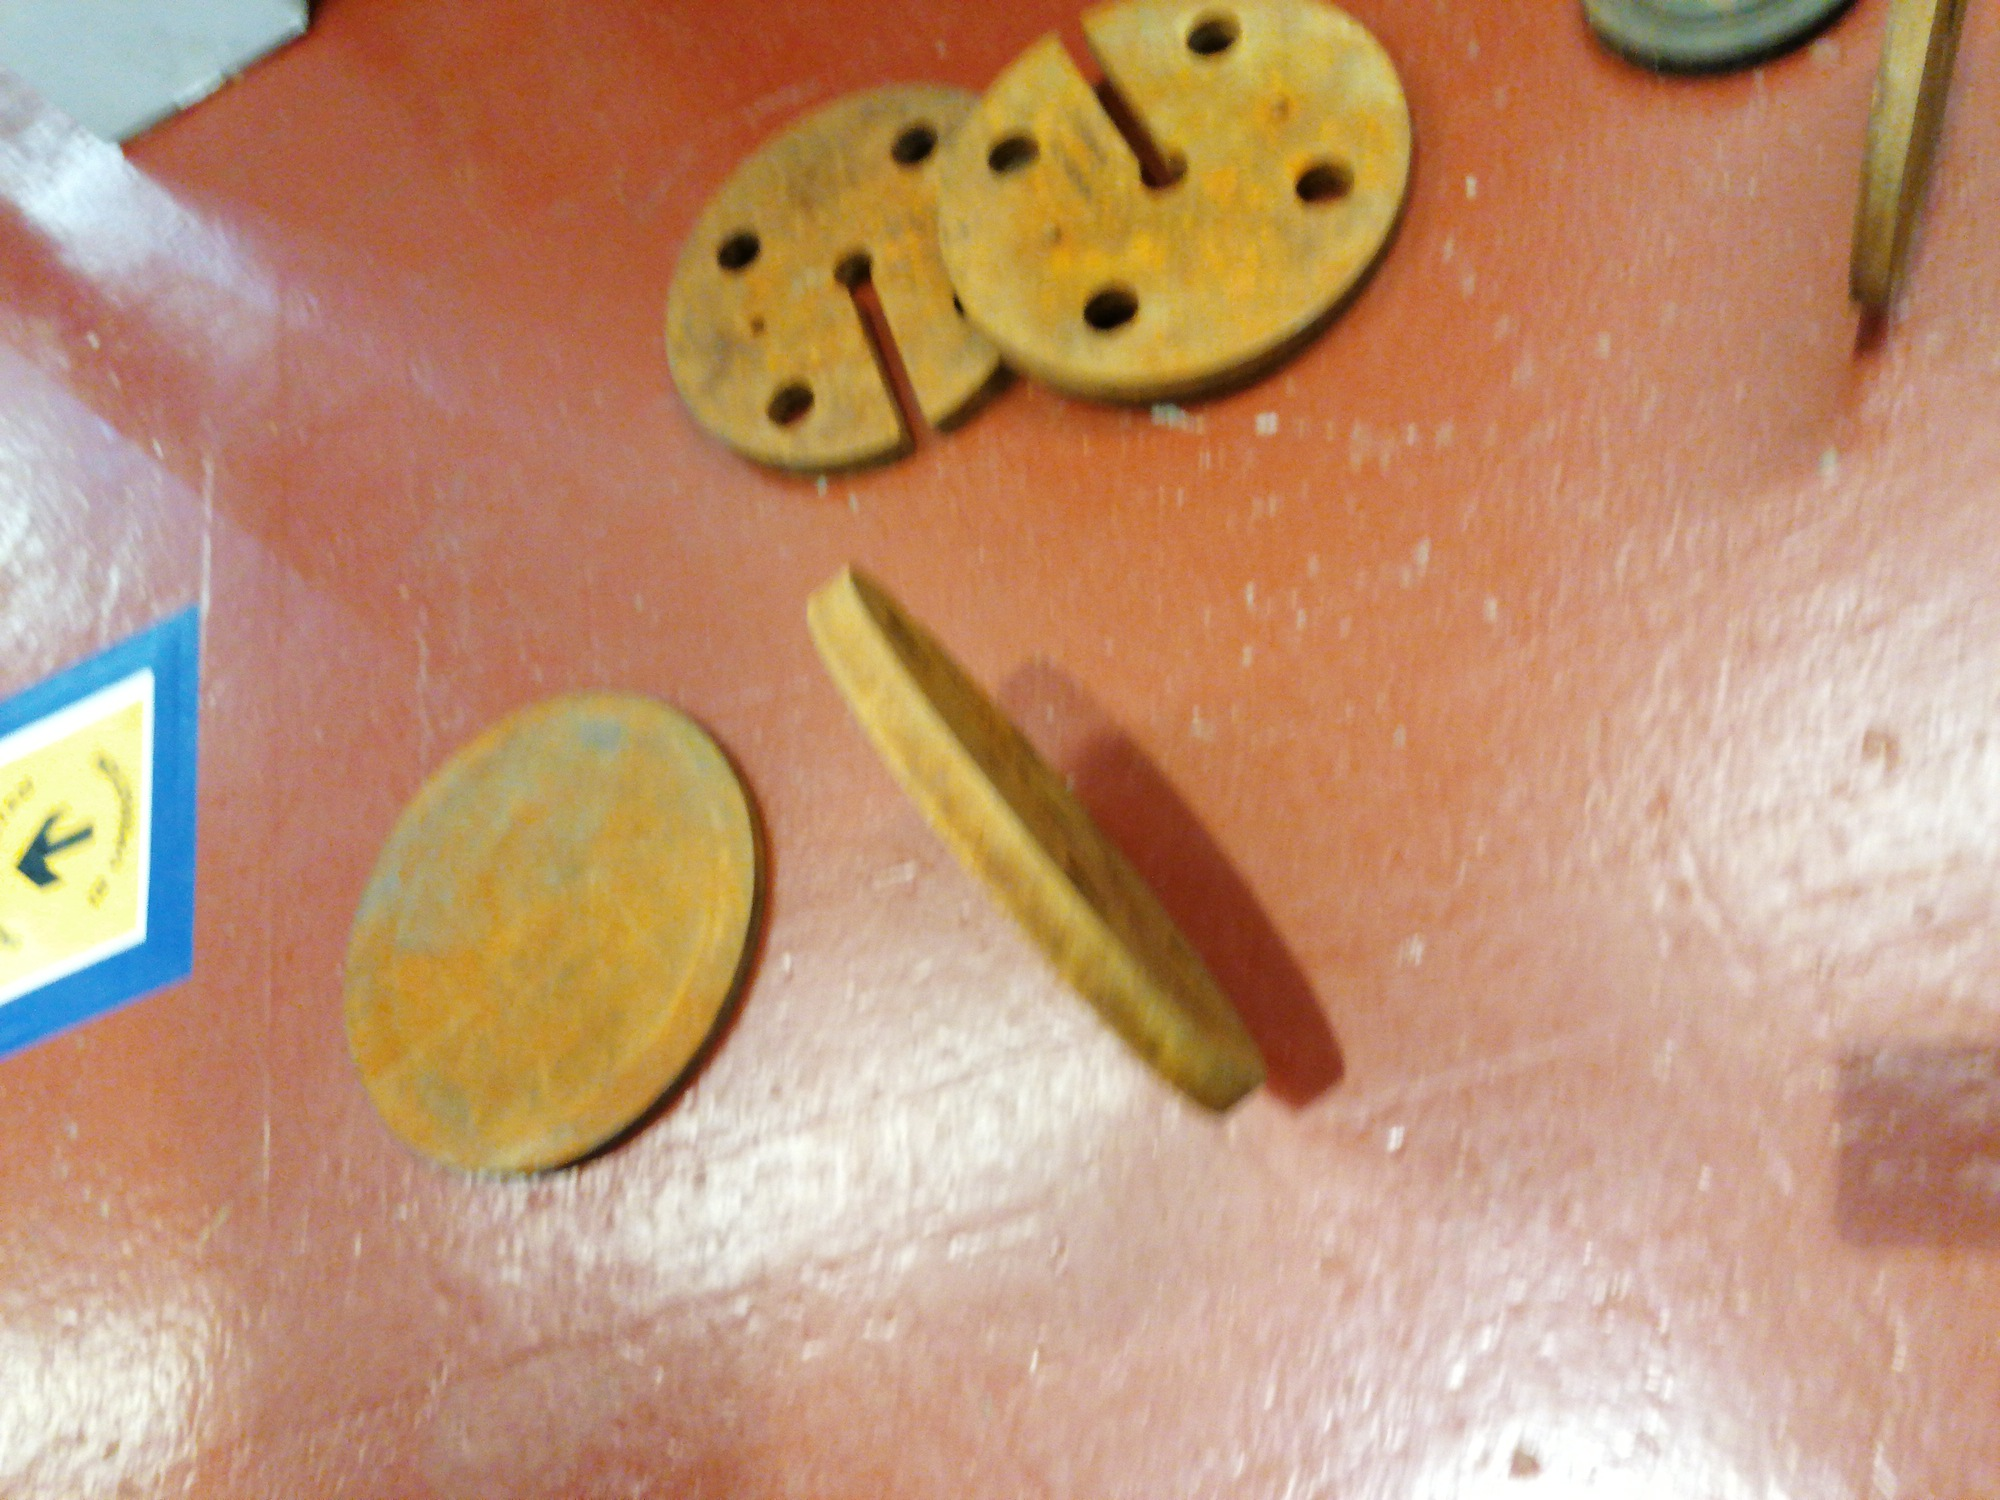flange: (802, 561, 1268, 1112), (335, 687, 769, 1179), (939, 2, 1422, 402), (661, 79, 1027, 473), (1843, 2, 1953, 310), (1580, 2, 1849, 80)
